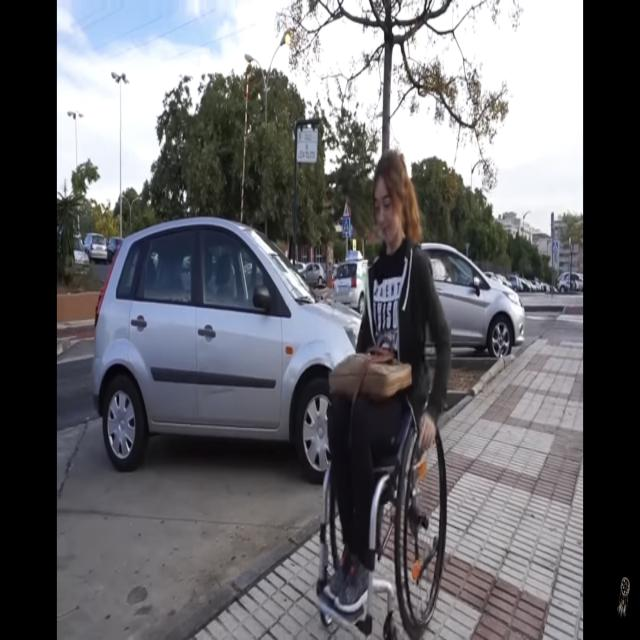wheelchairs: (314, 281, 451, 640)
